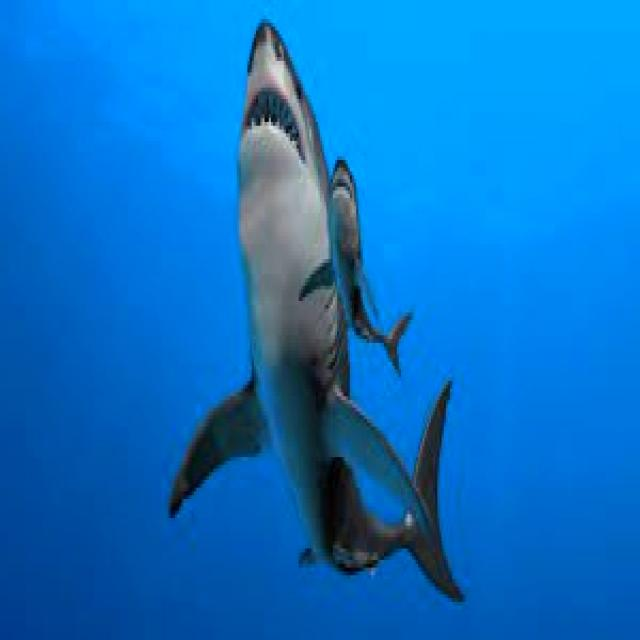shark: (171, 19, 463, 598), (301, 160, 412, 370)
